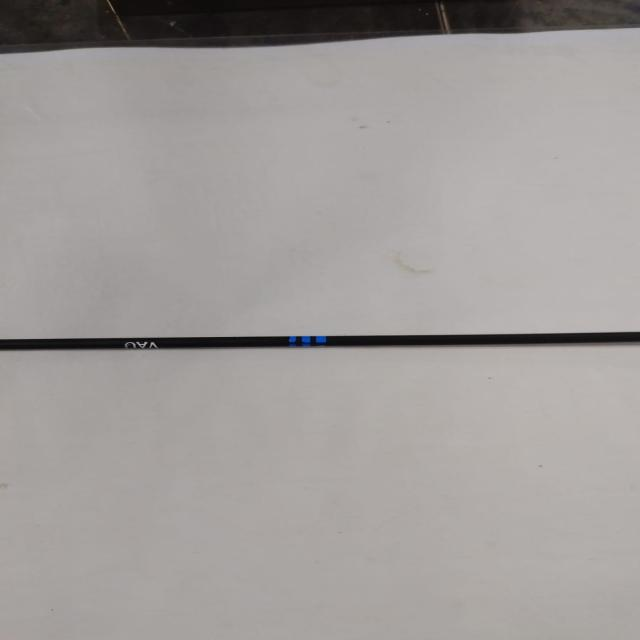blue: (289, 336, 326, 348)
